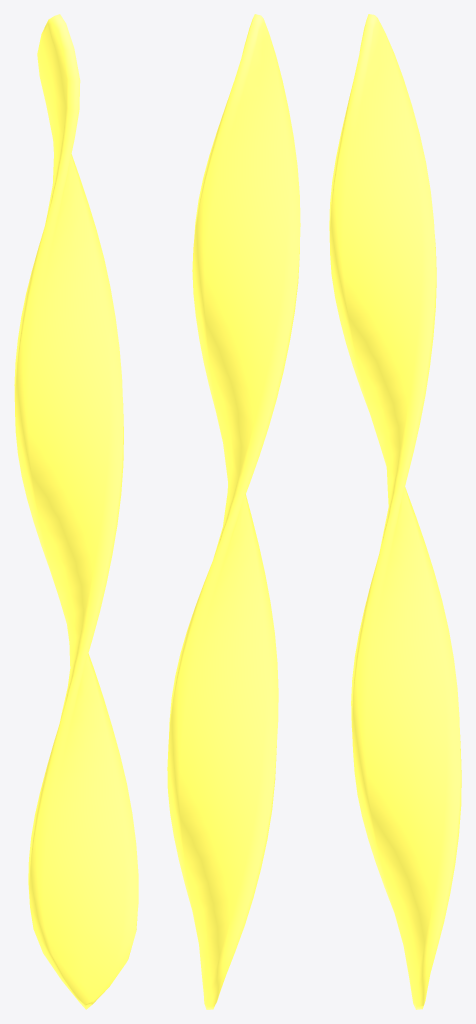
The model's file is Fusili.001.gltf.
3 views of the same model, side by side, from view 1: azimuth 30°, elevation 25°; view 2: azimuth 150°, elevation 25°; view 3: azimuth 330°, elevation 25° (orthographic).
Visible parts, largest first — view 1: Fusili.001; view 2: Fusili.001; view 3: Fusili.001.
Part boxes in pixels (x1,y1,x2,y2): Fusili.001: [14, 14, 138, 1009]; Fusili.001: [167, 14, 300, 1009]; Fusili.001: [329, 14, 461, 1009].
Bounding box in the file's own units: 0.3841 × 3.19 × 0.3175.
